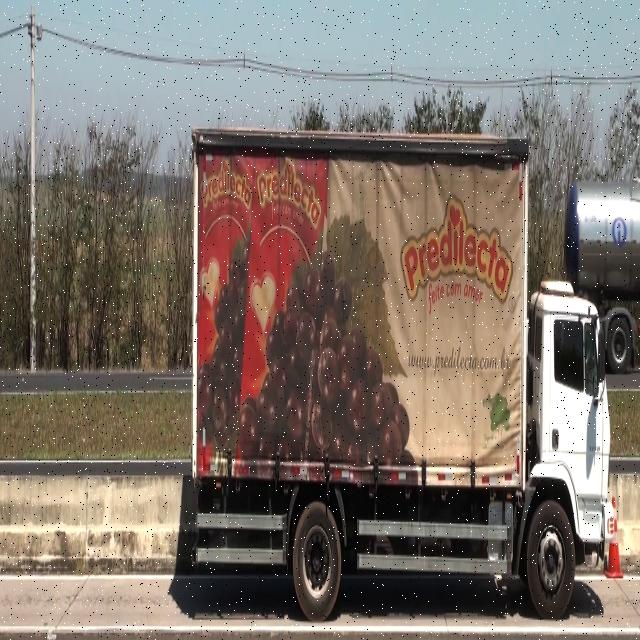-axle: (526, 500, 578, 619), (294, 505, 343, 624)
